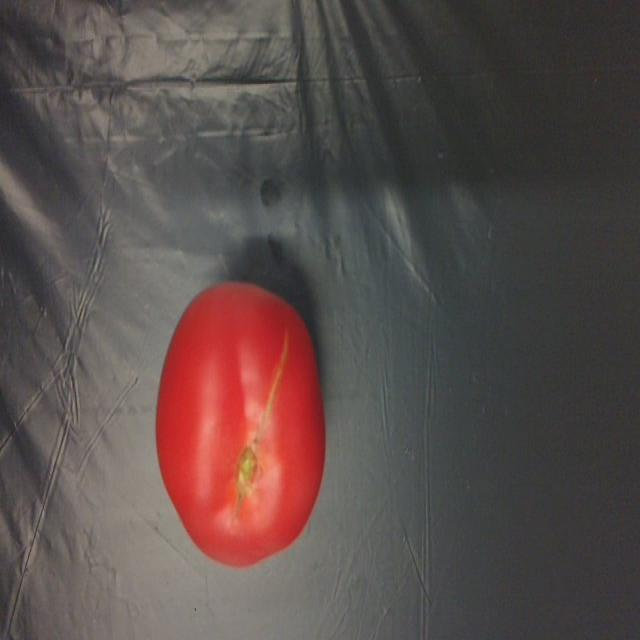kirmizi: (154, 280, 330, 577)
